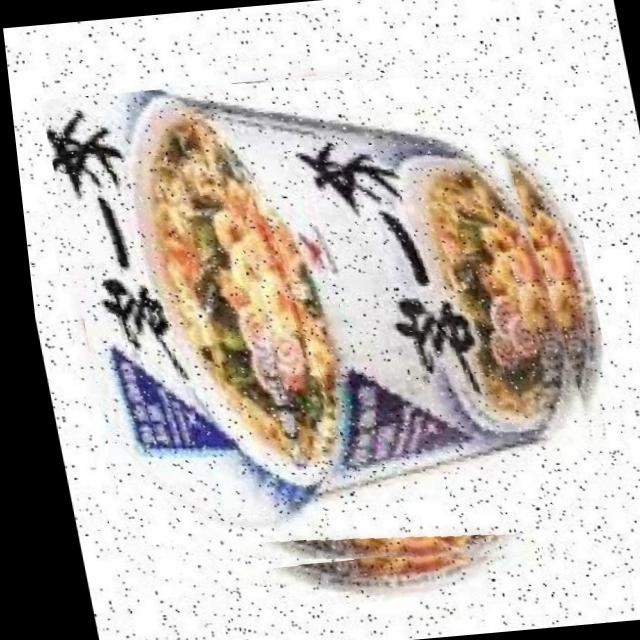Miscellaneous: (32, 55, 620, 597)
